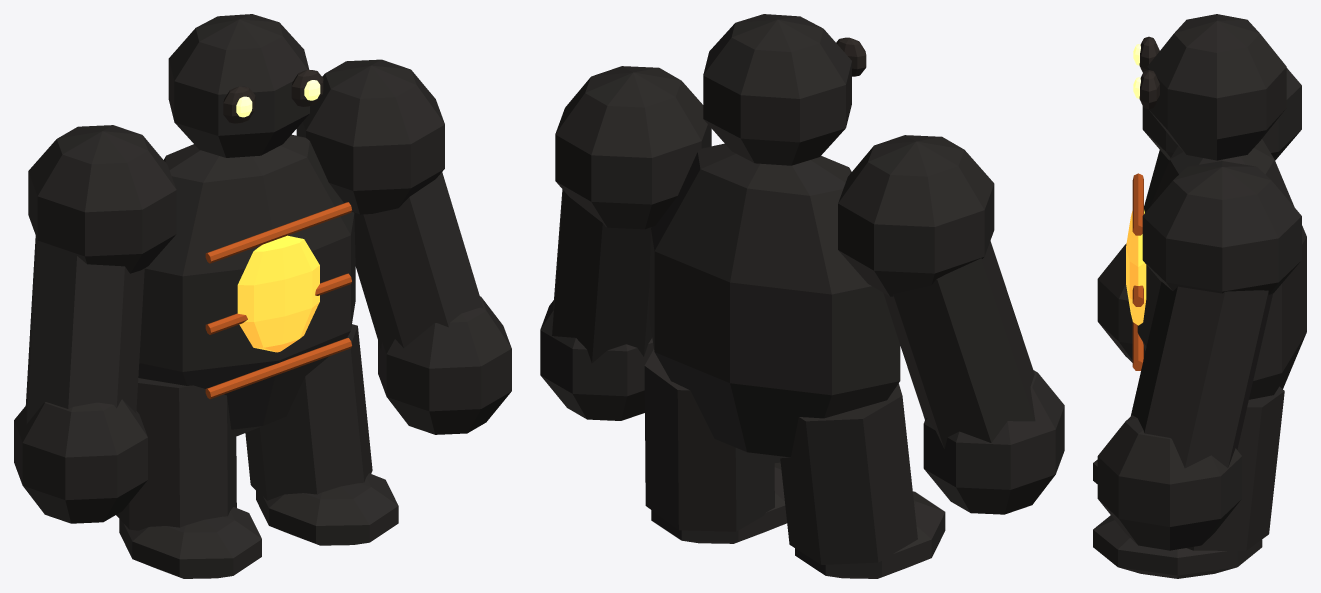
Rendered from fauna-slag_golem.glb.
3 views of the same model, side by side, from view 1: azimuth 30°, elevation 25°; view 2: azimuth 150°, elevation 25°; view 3: azimuth 270°, elevation 25° (orthographic). The views are drawn at different scales.
Parts seen in each view (by area): view 1: Fauna_slag_golem; view 2: Fauna_slag_golem; view 3: Fauna_slag_golem.
Part boxes in pixels (x1,y1,x2,y2): Fauna_slag_golem: (14,14,511,578); Fauna_slag_golem: (540,14,1064,578); Fauna_slag_golem: (1093,14,1306,578).
Size of the model in its own units: 2.11 by 2.16 by 0.8167.
